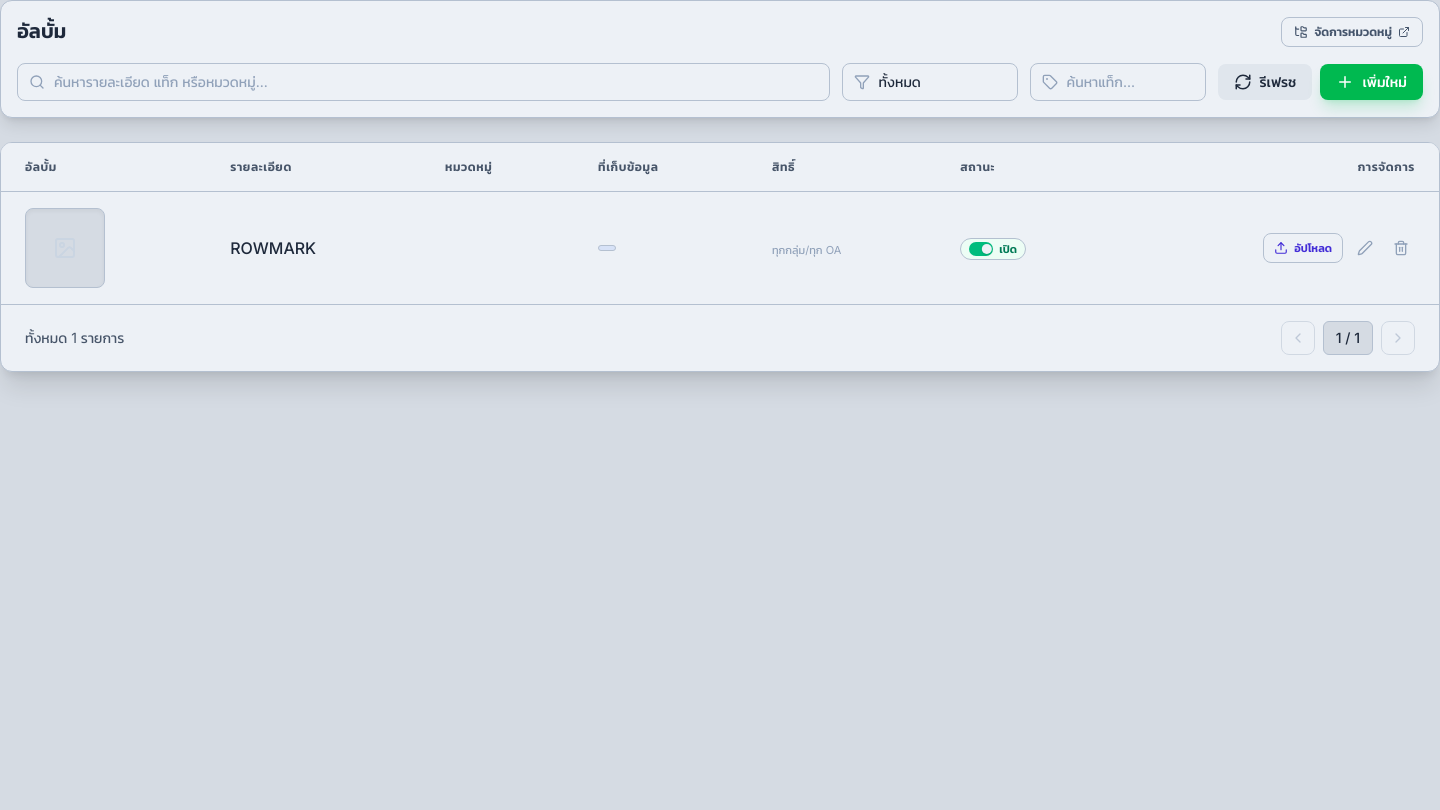
Scenario: [REQ-CONTENT] ObjectImageList › a failed read opens the error alert and keeps the rows on screen
The image size is (1440, 810).
Type "ROWM" into the field with placeholder "ค้นหารายละเอียด แท็ก หรือหมวดหมู่..." at (423, 82), box [17,63,830,101]
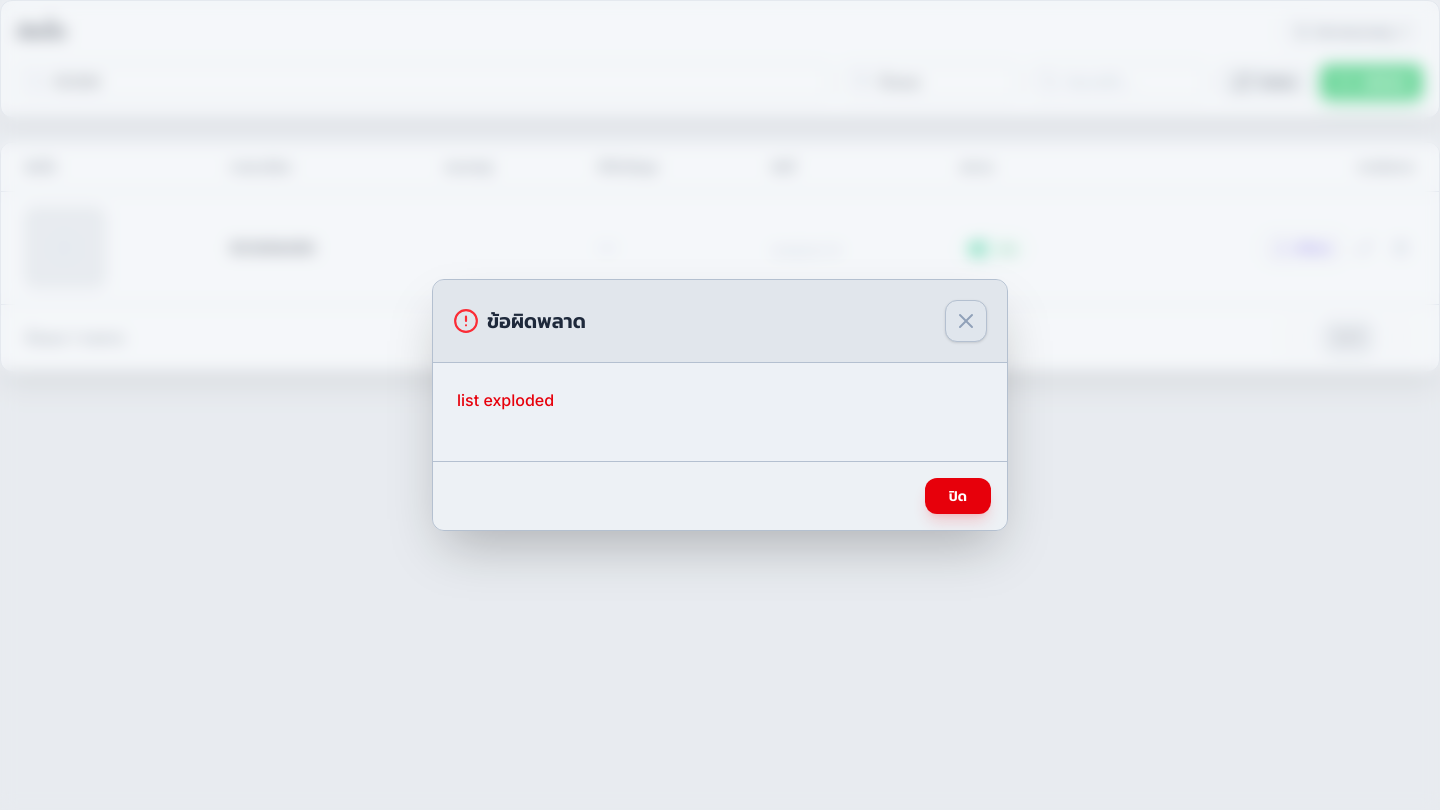
Check: the heading "ข้อผิดพลาด" is shown, box [453,307,586,335]
